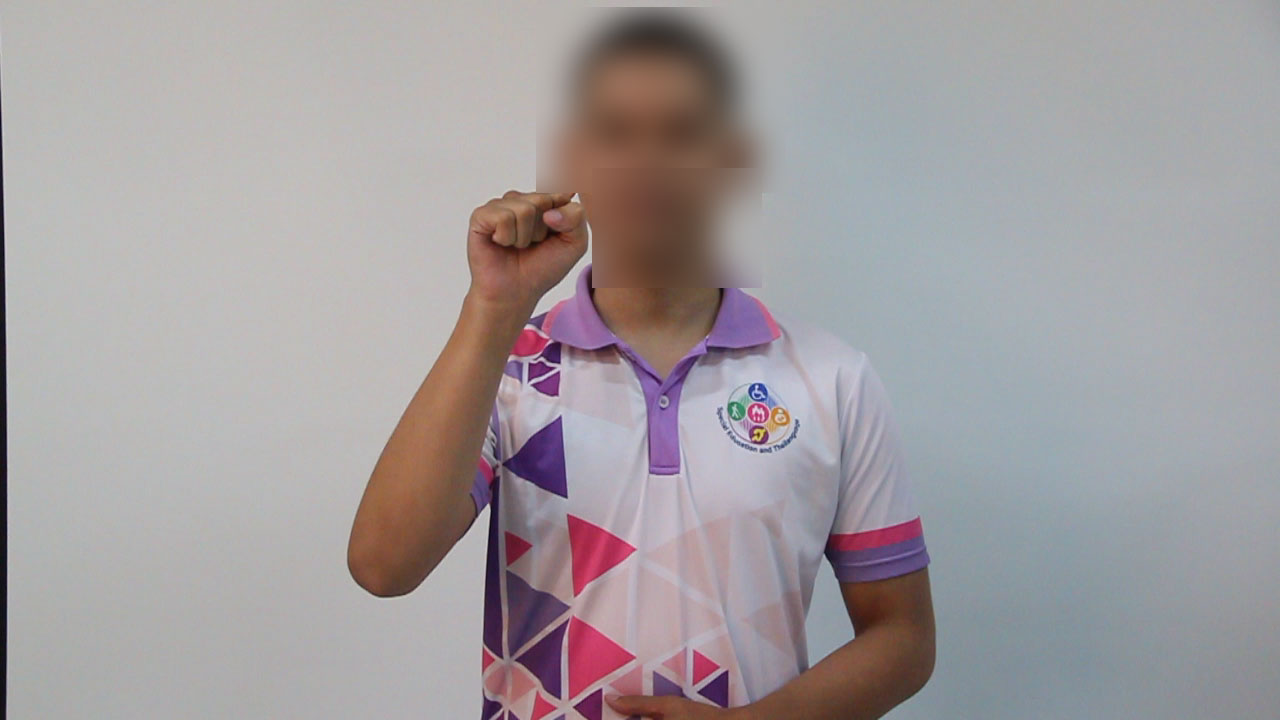sor: (460, 169, 595, 321)
